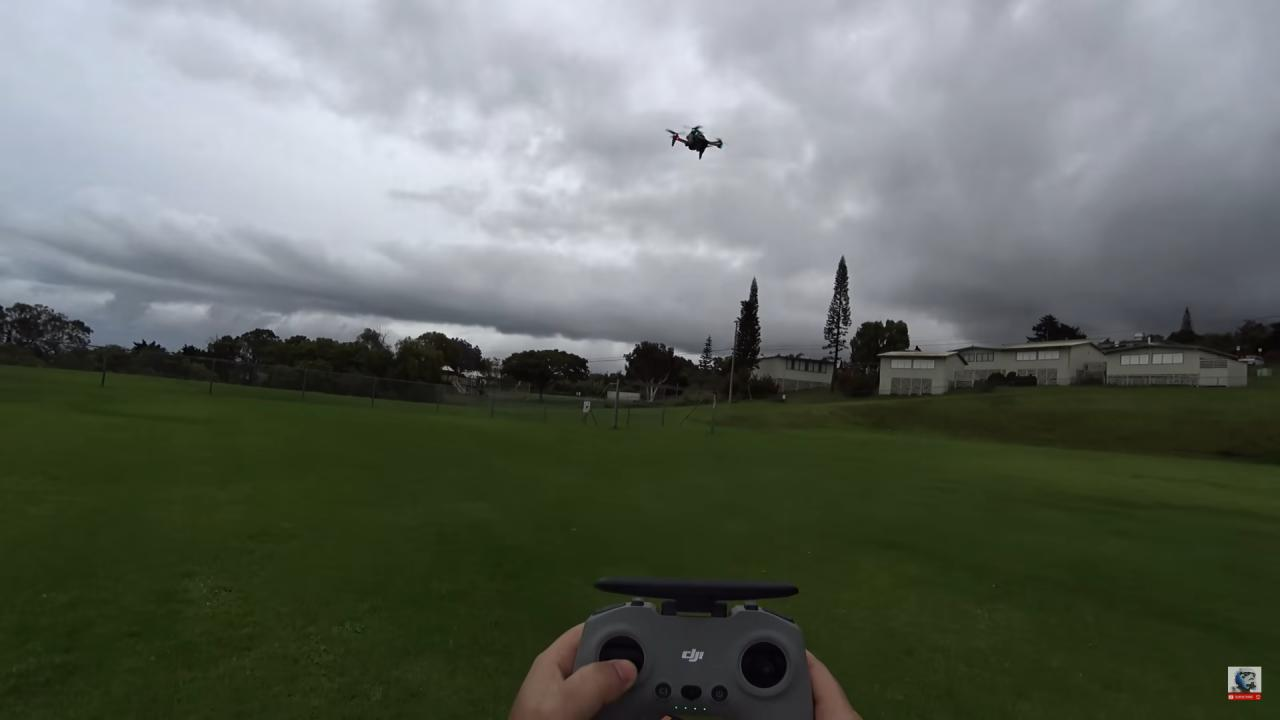Drone: (657, 118, 731, 166)
